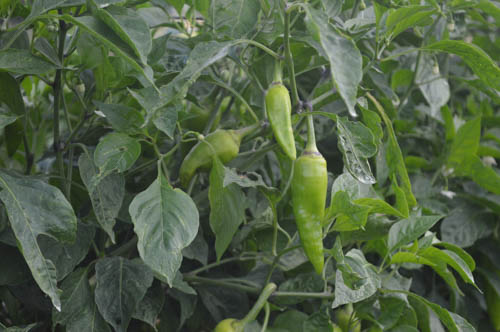ChiliPepper: (293, 155, 336, 272), (180, 132, 239, 182), (266, 83, 302, 155)
